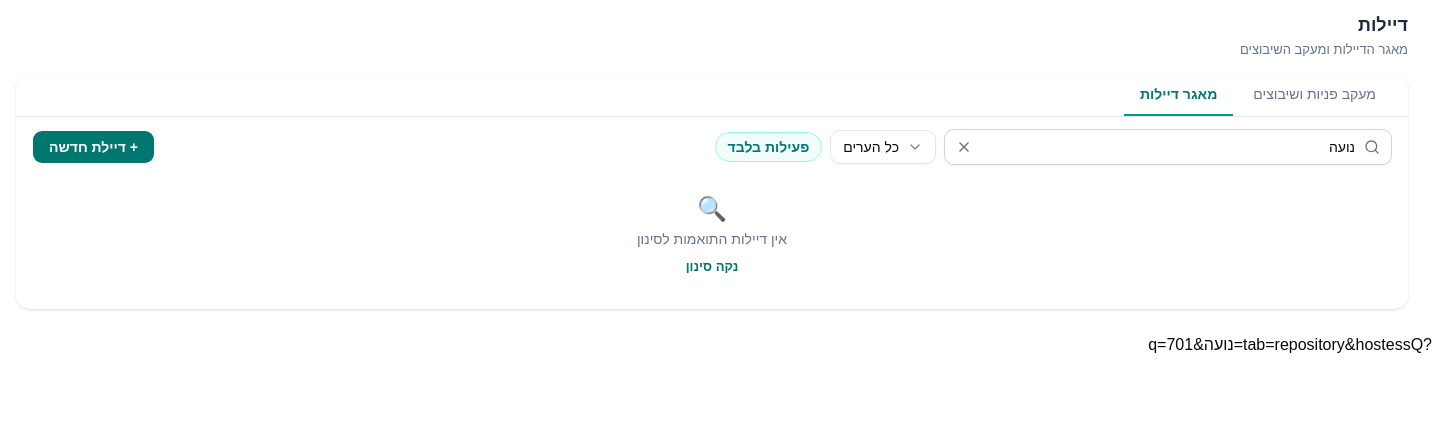
Test: Hostesses search across both real tabs › clears a repository query without changing active-only filtering or the other search
Expected: the element with test id "repository-empty-filtered" is shown, [637,195,787,277]
Click the button with test id "repository-active-only". click: (768, 147)
box: [715,132,822,162]
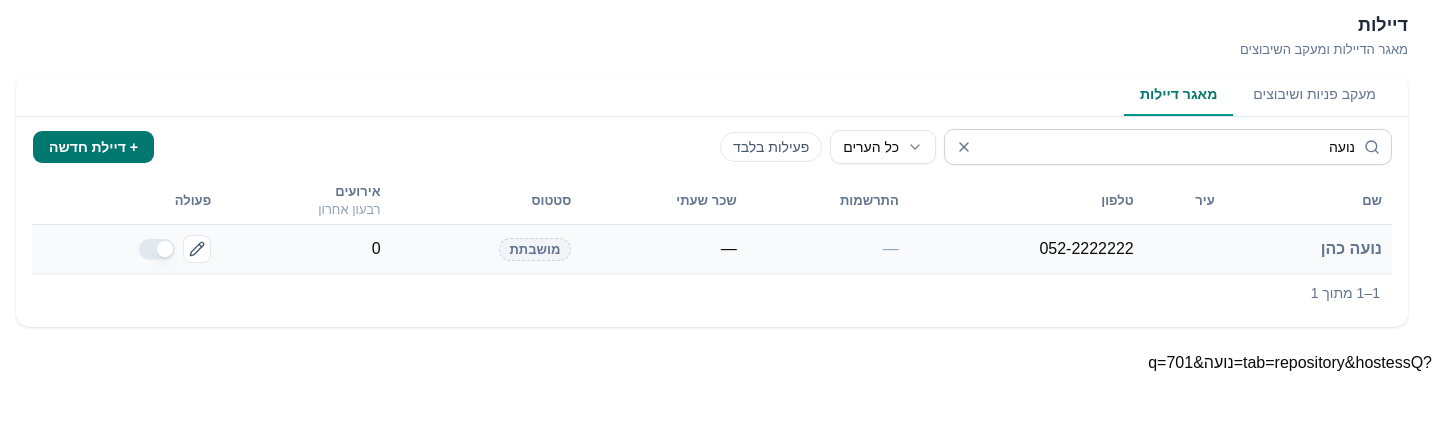
Expected: the row with test id "repository-row-2" is shown, [32,224,1392,274]
Click the button named "נקה חיפוש דיילות". click: (964, 147)
box: [948,131,980,163]
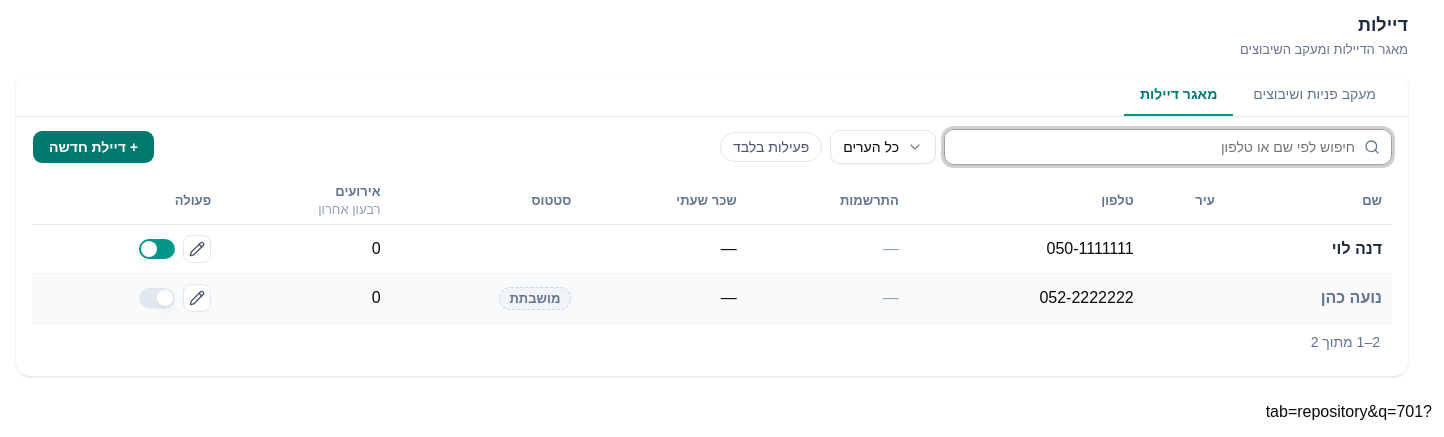
Expected: the row with test id "repository-row-2" is shown, [32,274,1392,322]
Expected: the row with test id "repository-row-1" is shown, [32,224,1392,274]
Expected: the text with test id "search-url" no longer shows "hostessQ=", [1266,403,1432,420]
